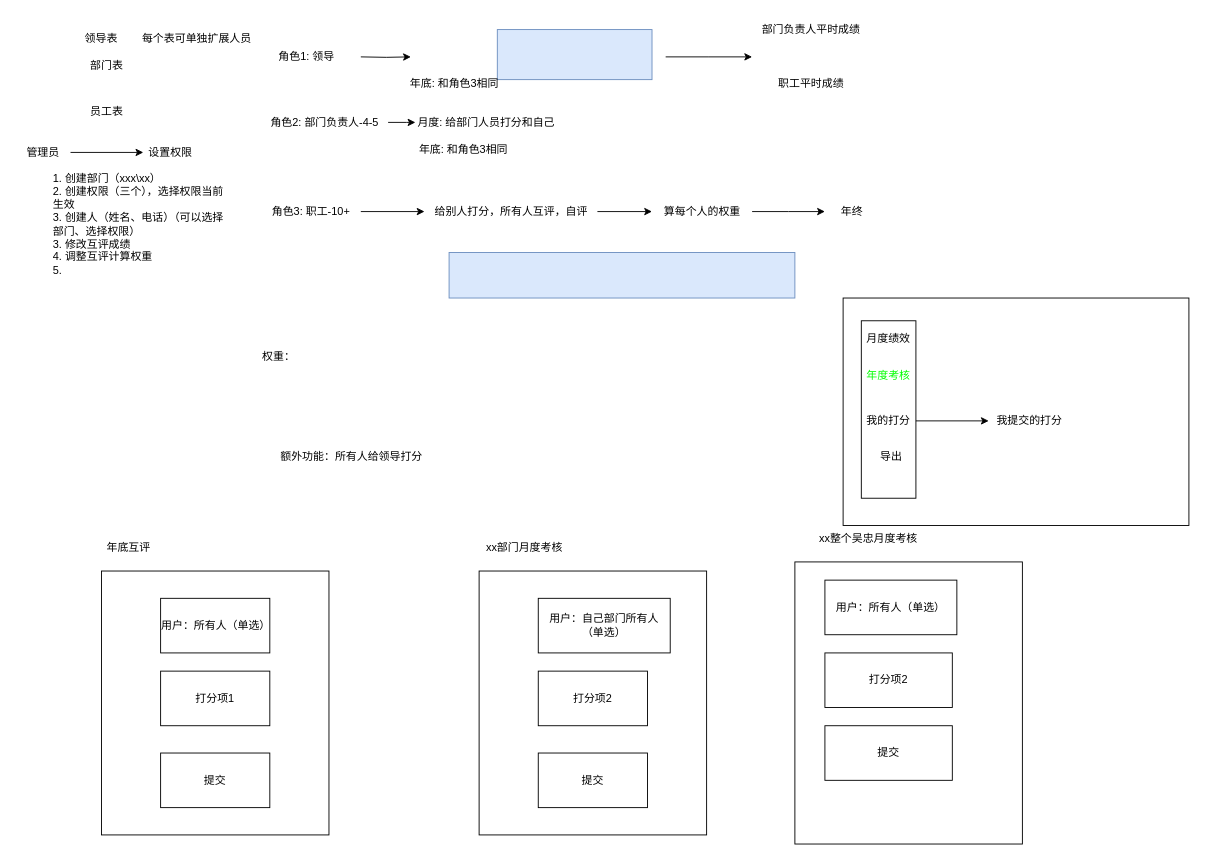
Image size: 1205x860. Some labels were removed from this diagram. Each missing label, with the box of its shape:
目标：得到职工和部门负责人的成绩，Sum(月成绩) / 12 * 权重1 + 所有人评分加起来 / 打分人数 * 权重2: (448, 252, 795, 298)
领导每个月打分，给部门负责人 、职工分别打分: (496, 29, 652, 80)
